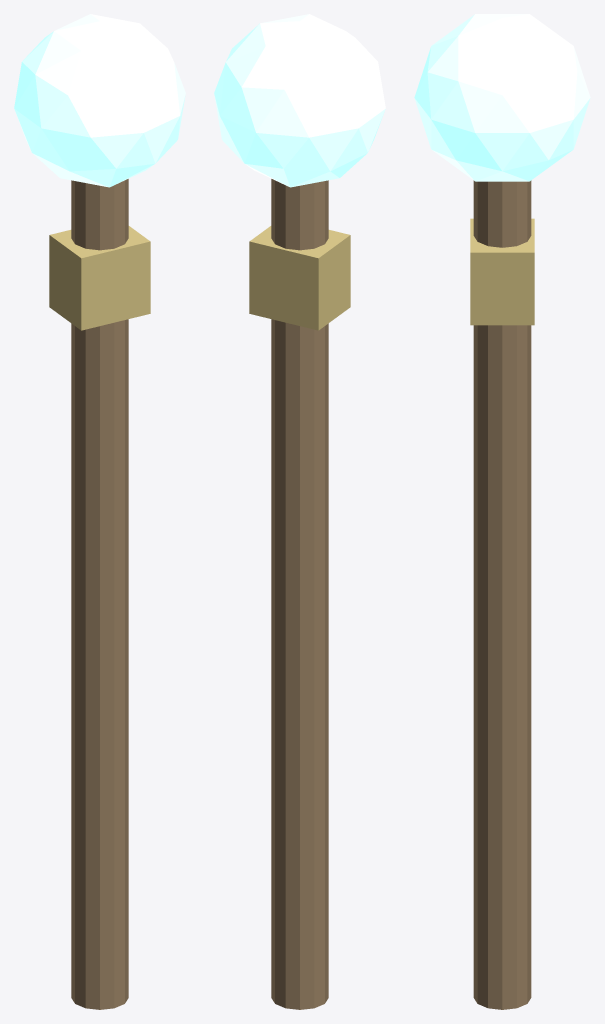
The model's file is wpn_wand.glb.
The picture shows the model from 3 angles, left to right: view 1: azimuth 30°, elevation 25°; view 2: azimuth 150°, elevation 25°; view 3: azimuth 270°, elevation 25°; orthographic projection.
Visible parts, largest first — view 1: wpn_wand; view 2: wpn_wand; view 3: wpn_wand.
Part boxes in pixels (<box>): wpn_wand: <box>14,14,185,1009</box>; wpn_wand: <box>214,14,385,1009</box>; wpn_wand: <box>414,14,590,1009</box>.
Size of the model in its own units: 0.1046 by 0.675 by 0.11.
